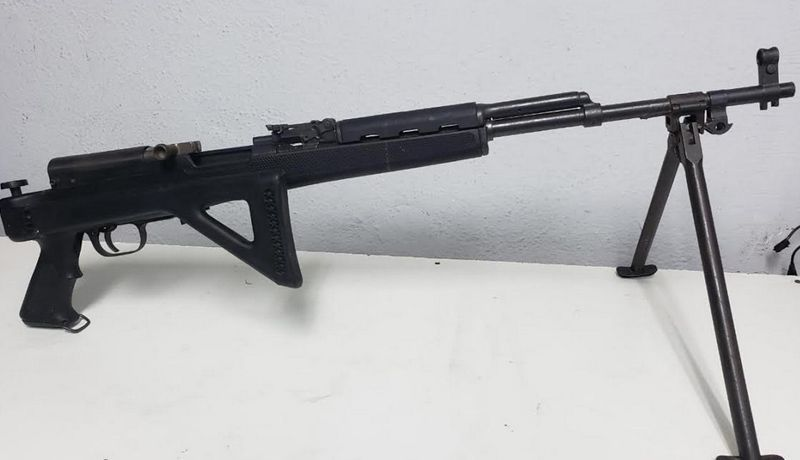Arma Real: (1, 43, 800, 452)
